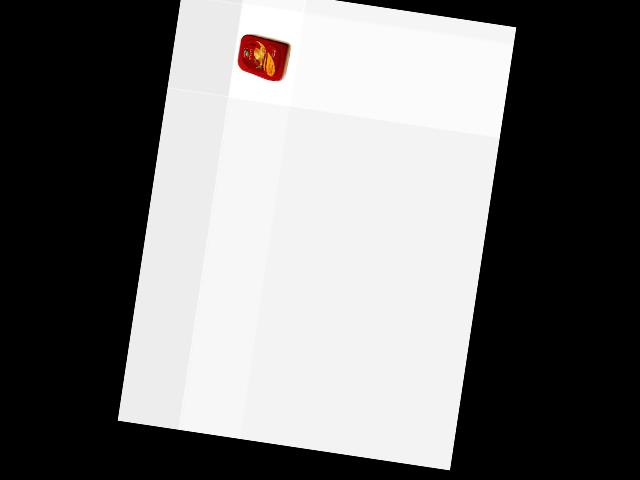cheese: (232, 31, 291, 82)
